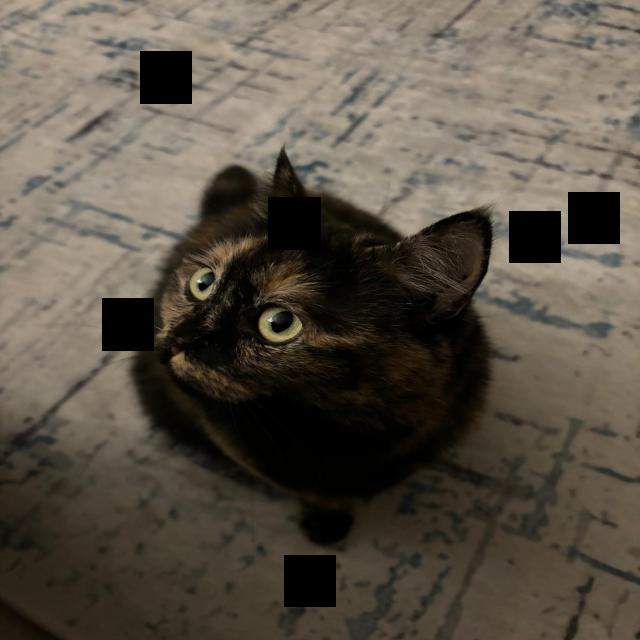authorized: (117, 142, 498, 547)
